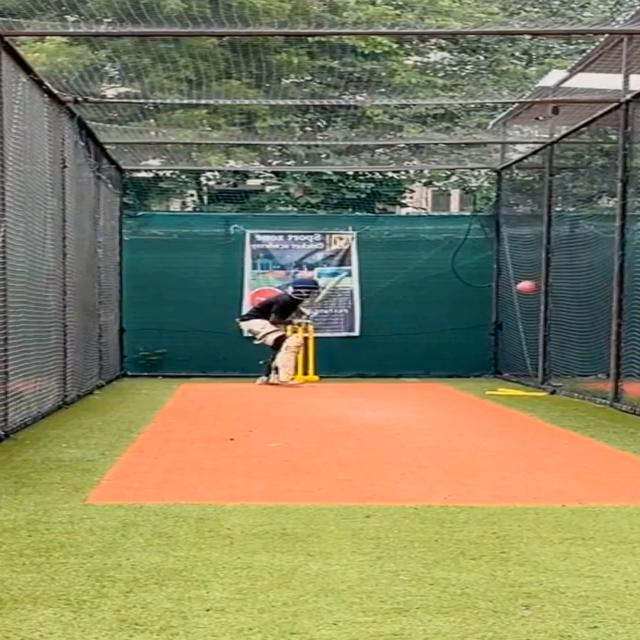ball: (515, 278, 541, 297)
stump: (280, 322, 320, 380)
